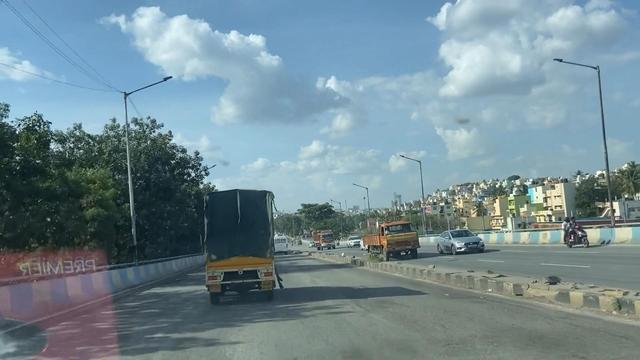HMV: (199, 186, 290, 307)
